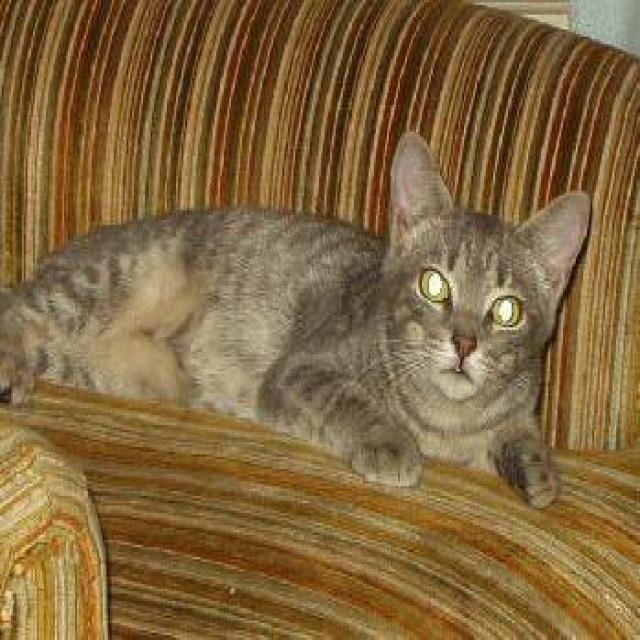cat: (0, 127, 590, 508)
